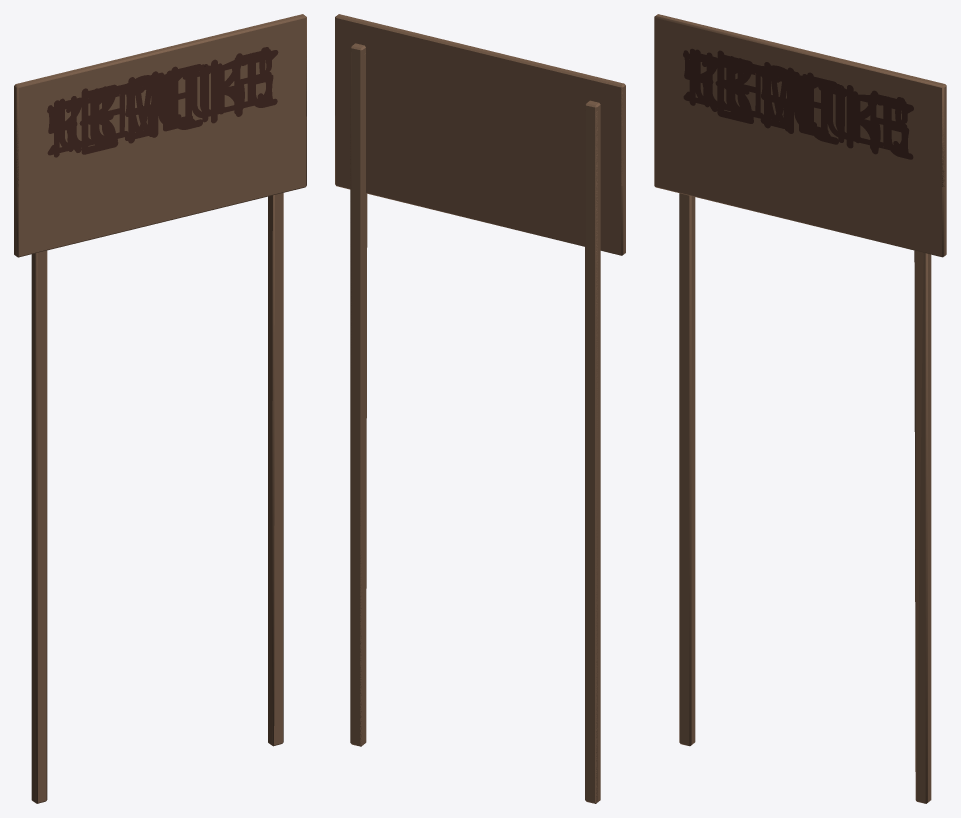
Rendered from LongSigns.fbx.
The picture shows the model from 3 angles, left to right: view 1: azimuth 30°, elevation 25°; view 2: azimuth 150°, elevation 25°; view 3: azimuth 330°, elevation 25°; orthographic projection.
Visible parts, largest first — view 1: sign_level1_01, sign_resume01, sign_settings02, sign_level3_01, sign_back01, sign_level2_01; view 2: sign_back01, sign_level1_01, sign_resume01, sign_level3_01, sign_settings02; view 3: sign_level1_01, sign_resume01, sign_settings02, sign_back01, sign_level3_01, sign_level2_01.
Boxes of the visible parts, left/top/right/bottom form: sign_level1_01: left=14, top=18, right=306, bottom=802; sign_resume01: left=14, top=14, right=306, bottom=803; sign_settings02: left=31, top=59, right=283, bottom=802; sign_level3_01: left=253, top=47, right=281, bottom=745; sign_back01: left=14, top=14, right=303, bottom=798; sign_level2_01: left=59, top=47, right=267, bottom=150; sign_back01: left=335, top=16, right=624, bottom=803; sign_level1_01: left=335, top=86, right=625, bottom=800; sign_resume01: left=337, top=14, right=625, bottom=803; sign_level3_01: left=362, top=53, right=367, bottom=744; sign_settings02: left=350, top=56, right=600, bottom=801; sign_level1_01: left=654, top=18, right=946, bottom=801; sign_resume01: left=654, top=14, right=946, bottom=803; sign_settings02: left=679, top=50, right=931, bottom=802; sign_back01: left=658, top=15, right=946, bottom=802; sign_level3_01: left=889, top=97, right=923, bottom=800; sign_level2_01: left=695, top=49, right=903, bottom=152.
Bounding box in the file's own units: 92.94 × 222 × 4.88.
